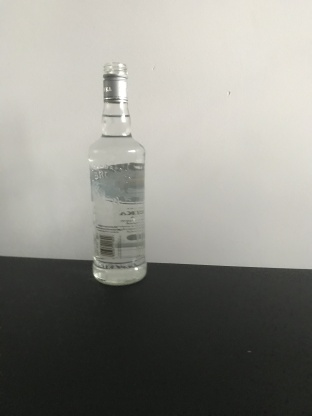nakretka: (101, 60, 130, 104)
